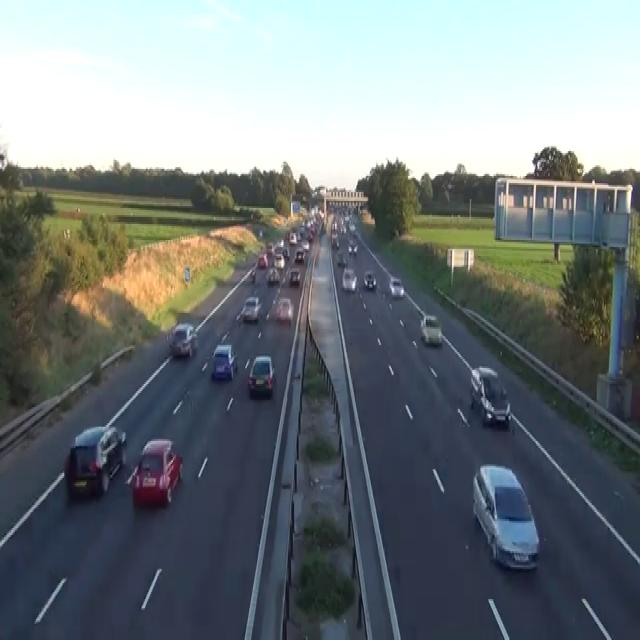Car: (471, 464, 540, 571), (64, 425, 126, 499), (125, 437, 183, 507), (469, 364, 511, 426), (470, 364, 498, 409), (247, 354, 275, 396), (168, 322, 198, 357), (211, 343, 237, 381), (420, 313, 442, 345), (242, 295, 262, 322), (276, 297, 293, 323), (342, 266, 357, 292), (389, 277, 404, 297), (363, 270, 376, 288), (266, 266, 279, 284), (289, 266, 300, 284), (273, 252, 285, 268), (235, 306, 245, 325), (294, 247, 305, 263), (336, 250, 347, 266), (257, 252, 267, 268), (348, 240, 357, 256), (250, 265, 256, 283), (289, 231, 297, 244), (300, 240, 309, 251), (273, 244, 282, 254), (282, 247, 290, 258), (331, 233, 338, 245), (266, 242, 273, 252), (349, 222, 355, 233), (334, 238, 339, 249), (352, 244, 357, 254), (348, 244, 352, 254), (259, 230, 262, 238)
